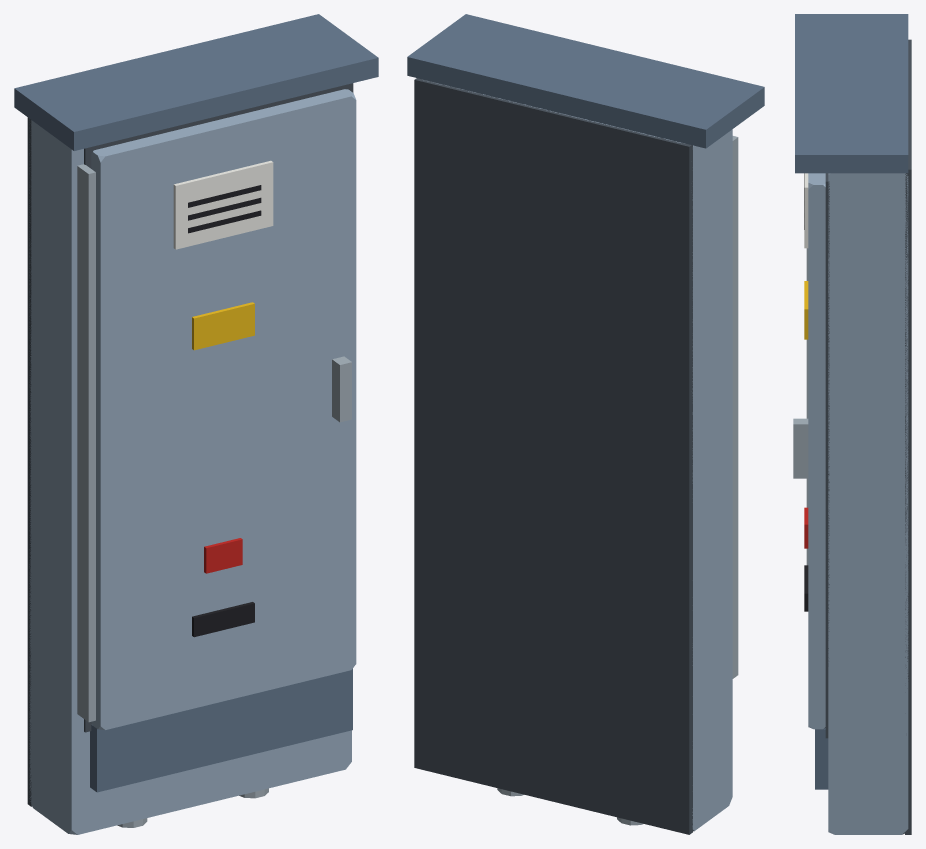
File: breaker_panel.obj
The picture shows the model from 3 angles, left to right: view 1: azimuth 30°, elevation 25°; view 2: azimuth 150°, elevation 25°; view 3: azimuth 270°, elevation 25°; orthographic projection. The views are drawn at different scales.
Bounding box in the file's own units: 0.5 × 1.16 × 0.1775.
